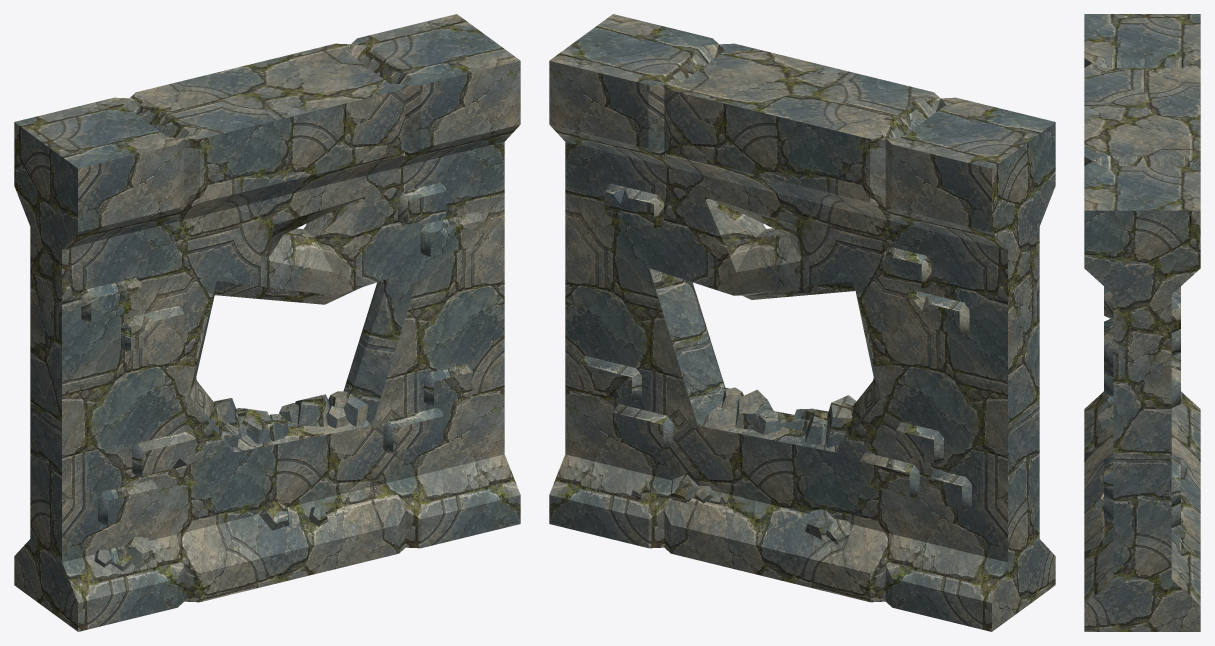
File: wall_broken_finished.glb
3 views of the same model, side by side, from view 1: azimuth 30°, elevation 25°; view 2: azimuth 150°, elevation 25°; view 3: azimuth 270°, elevation 25° (orthographic). The views are drawn at different scales.
Parts seen in each view (by area): view 1: wall_broken.001; view 2: wall_broken.001; view 3: wall_broken.001.
Boxes of the visible parts, x1=… form: wall_broken.001: x1=14, y1=14, x2=520, y2=631; wall_broken.001: x1=549, y1=14, x2=1055, y2=631; wall_broken.001: x1=1084, y1=14, x2=1200, y2=631.
Bounding box in the file's own units: 4 × 4 × 1.
1 material, 1 textured.
